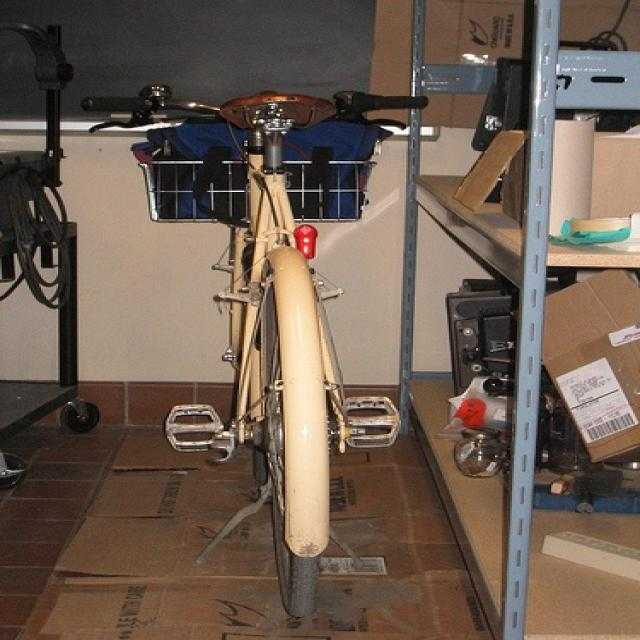bicycle: (82, 82, 428, 619)
